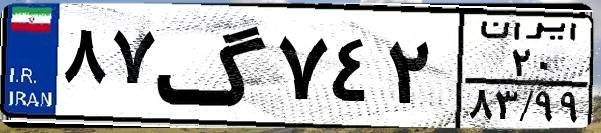0: (537, 27, 568, 80)
2: (385, 28, 445, 110), (508, 27, 537, 80)
3: (495, 70, 520, 125)
4: (330, 28, 385, 110)
7: (270, 28, 330, 110), (110, 28, 156, 98)
8: (57, 26, 110, 100), (470, 70, 495, 125)
9: (560, 70, 590, 125), (535, 70, 560, 125)
گ: (156, 12, 270, 120)
